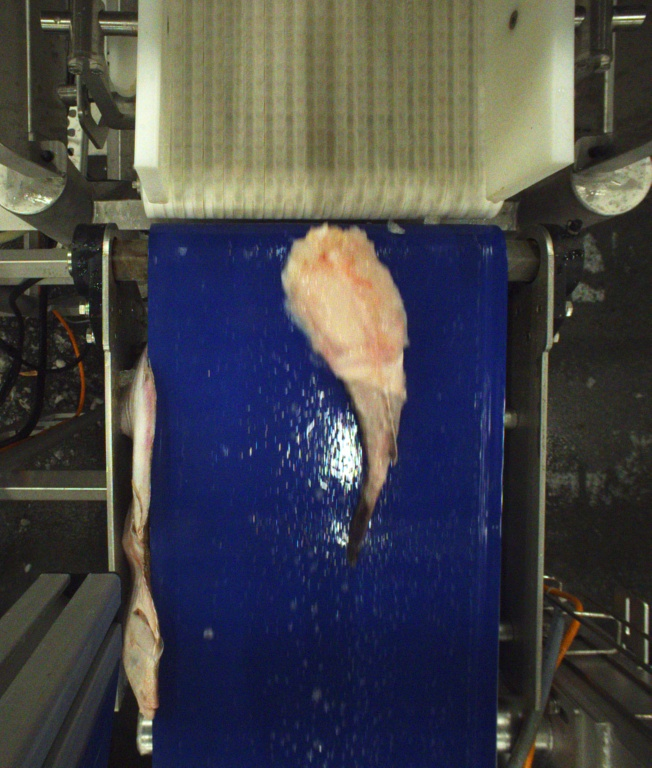ANF: (281, 220, 407, 566)
